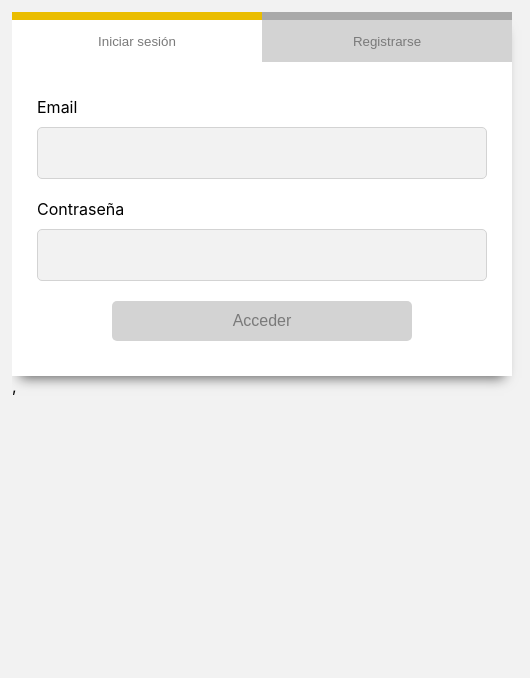
Scenario: MixForms should › show the registration
What coordinates should you click on to do the following:
click the button with aria-label "register-button"
I would click on:
 (387, 37)
Its box is [262,12,512,62].
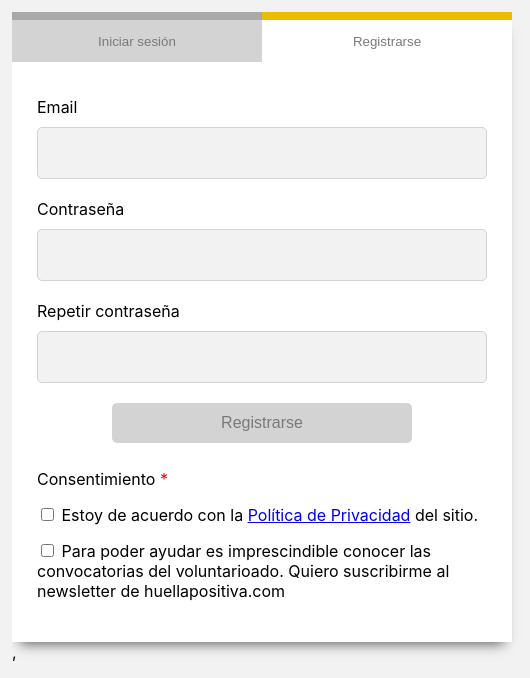
expect the text "Repetir contraseña" is shown: met, box [37,301,180,321]
